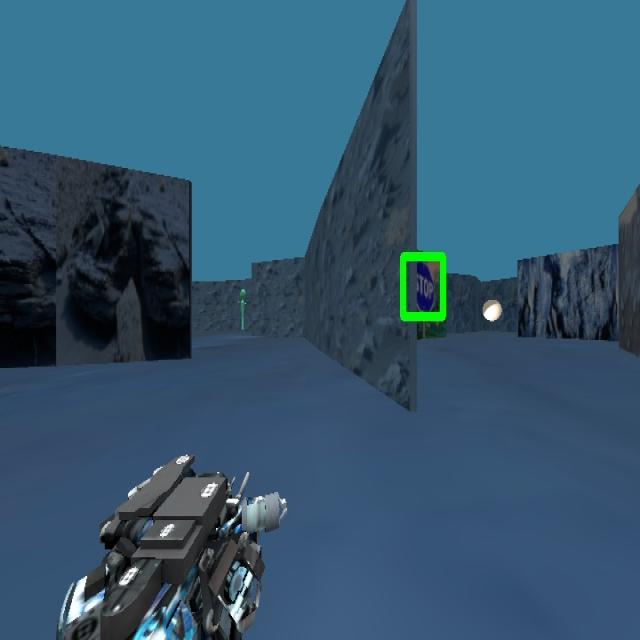Alien: (232, 251, 261, 374)
Circle: (482, 299, 502, 321)
Stop_Sign: (398, 249, 446, 323)
